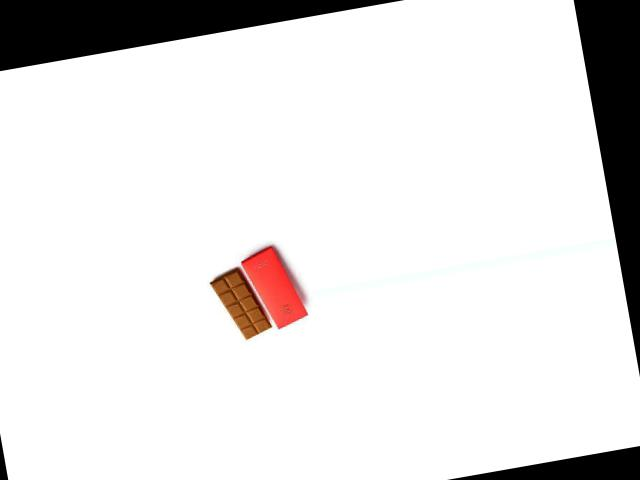chocolate: (207, 259, 277, 345)
